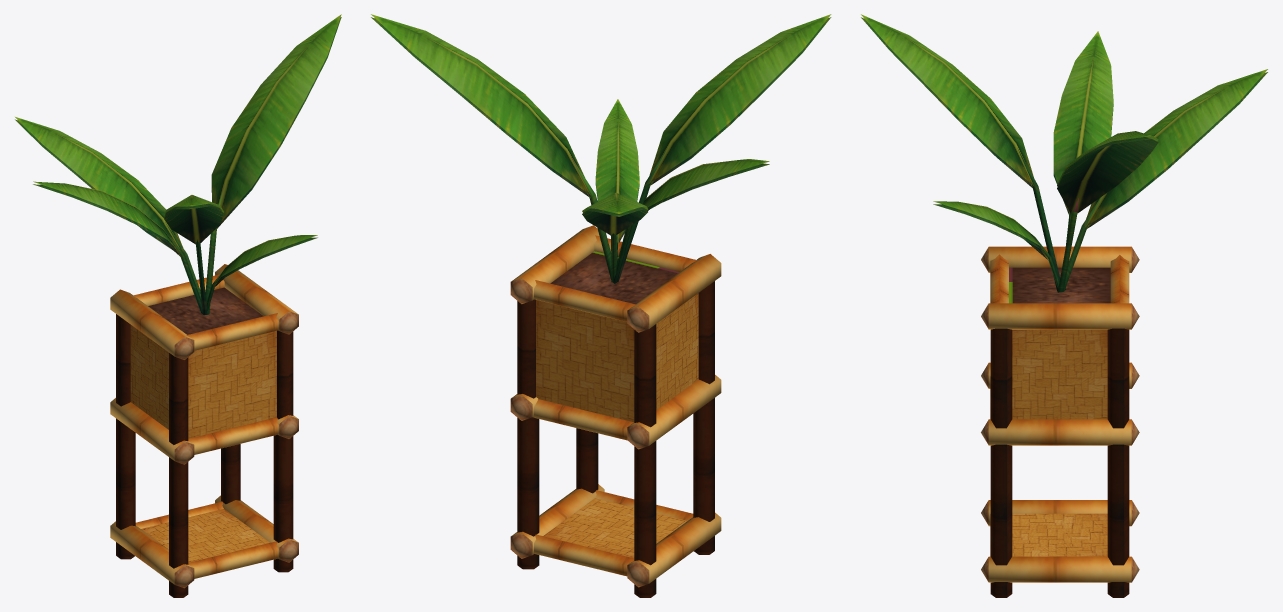
Rendered from ETC0610007.fbx.
3 views of the same model, side by side, from view 1: azimuth 30°, elevation 25°; view 2: azimuth 150°, elevation 25°; view 3: azimuth 270°, elevation 25° (orthographic). The views are drawn at different scales.
Visible parts, largest first — view 1: smETC0610007; view 2: smETC0610007; view 3: smETC0610007.
Boxes of the visible parts, bbox=[...] form: smETC0610007: bbox=[15, 14, 341, 597]; smETC0610007: bbox=[371, 14, 831, 597]; smETC0610007: bbox=[861, 14, 1267, 597].
Size of the model in its own units: 88.79 by 120 by 84.65.
1 material, 1 textured.
